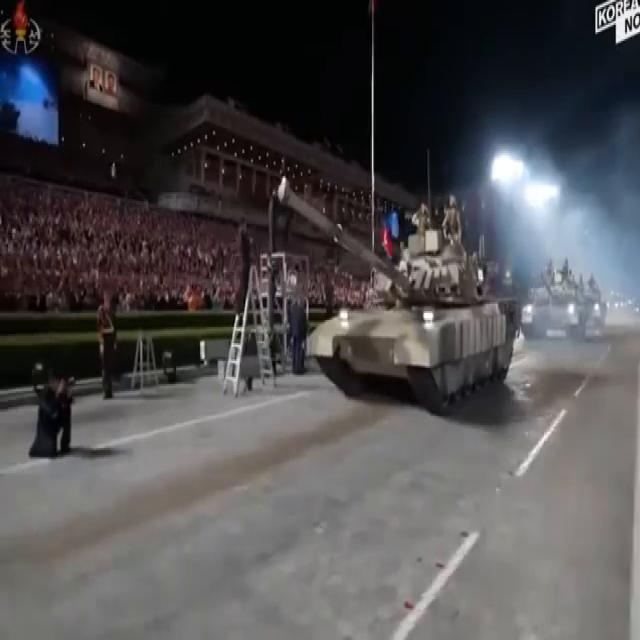north tank: (254, 155, 543, 425), (506, 217, 592, 356)
